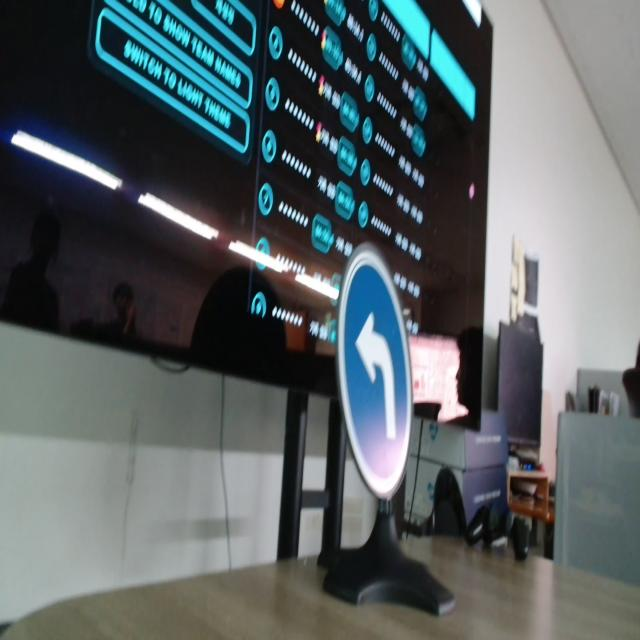left_direction: (324, 242, 410, 500)
